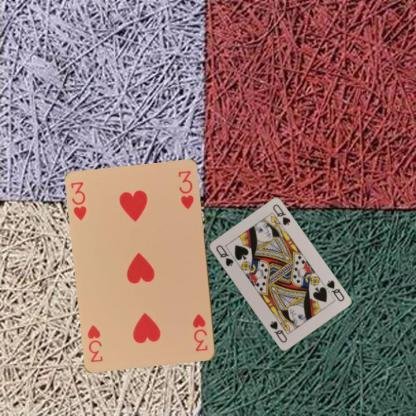3h: (68, 179, 88, 222), (190, 311, 209, 353)
Qs: (213, 242, 235, 268), (323, 277, 345, 303)
